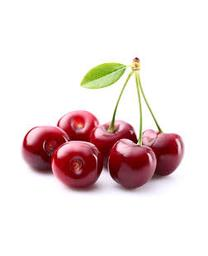cherry: (52, 140, 105, 190), (107, 138, 156, 192), (140, 127, 185, 177), (22, 126, 69, 172), (91, 118, 138, 164), (57, 112, 98, 154)
